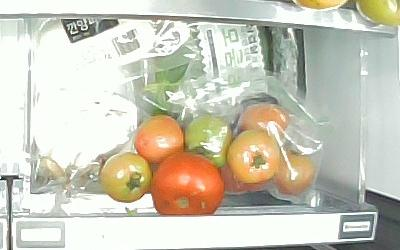tomato: (151, 153, 225, 217), (101, 151, 152, 203), (134, 114, 184, 161)
tomato_vinyl: (225, 129, 282, 183), (183, 114, 231, 166), (273, 147, 316, 196), (236, 103, 291, 138)
